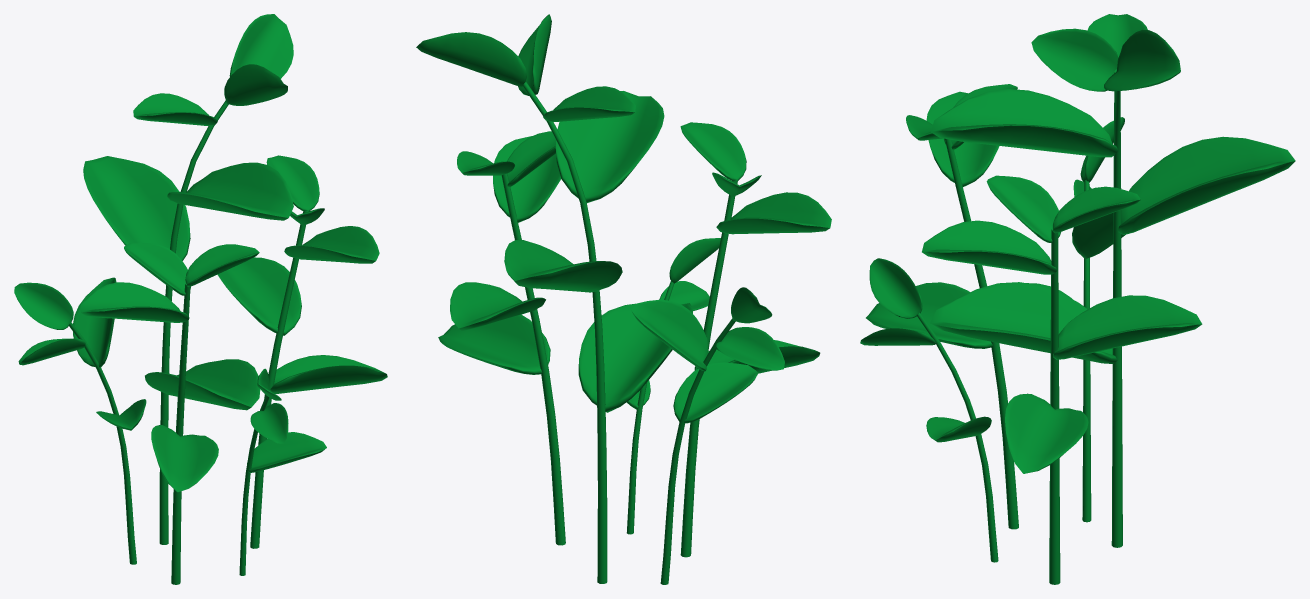
File: Farm_3_Plant_1.glb
The picture shows the model from 3 angles, left to right: view 1: azimuth 30°, elevation 25°; view 2: azimuth 150°, elevation 25°; view 3: azimuth 270°, elevation 25°; orthographic projection. The views are drawn at different scales.
Parts seen in each view (by area): view 1: Farm_3_Plant_1; view 2: Farm_3_Plant_1; view 3: Farm_3_Plant_1.
Boxes of the visible parts, box(x1,y1,x2,y2) form: Farm_3_Plant_1: box(14, 14, 387, 584); Farm_3_Plant_1: box(416, 14, 831, 584); Farm_3_Plant_1: box(860, 14, 1295, 584).
Bounding box in the file's own units: 1.07 × 1.47 × 1.01.
1 material, 1 textured.
